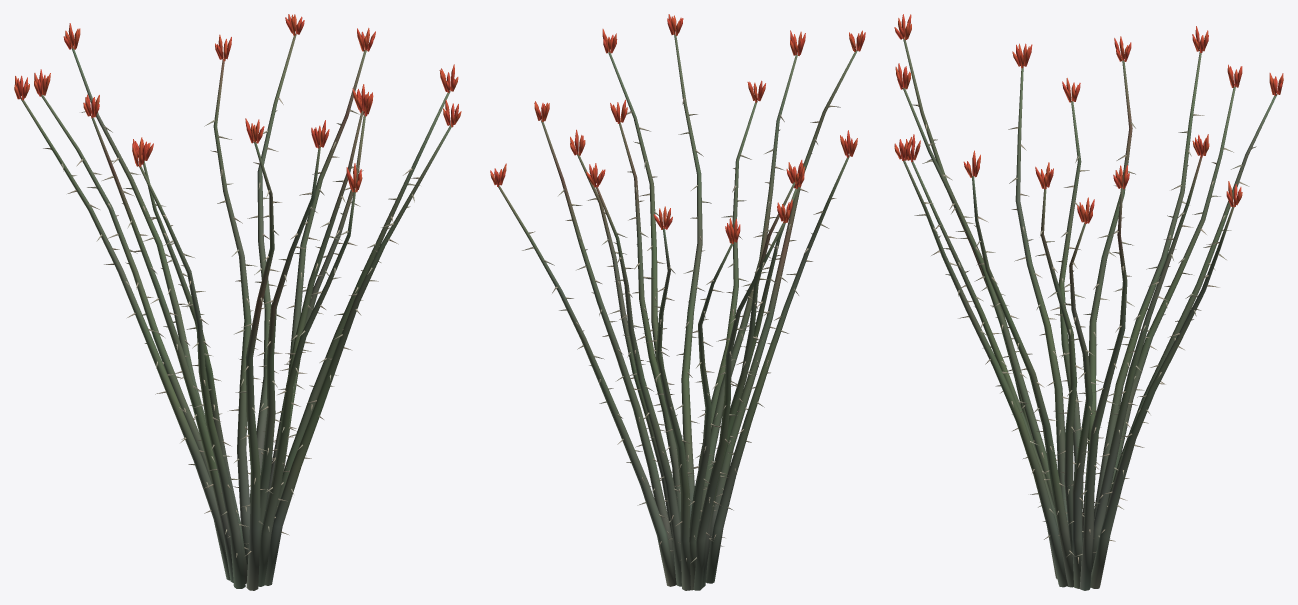
Rendered from ocotillo_hybrid.glb.
3 views of the same model, side by side, from view 1: azimuth 30°, elevation 25°; view 2: azimuth 150°, elevation 25°; view 3: azimuth 270°, elevation 25° (orthographic). The views are drawn at different scales.
Visible parts, largest first — view 1: OcotilloSeparateAscendingCaneStems, OcotilloTipFlowers, OcotilloStemThorns; view 2: OcotilloSeparateAscendingCaneStems, OcotilloTipFlowers, OcotilloStemThorns; view 3: OcotilloSeparateAscendingCaneStems, OcotilloTipFlowers, OcotilloStemThorns.
Part boxes in pixels (x1,y1,x2,y2): OcotilloSeparateAscendingCaneStems: (21,34,451,590); OcotilloTipFlowers: (14,14,461,192); OcotilloStemThorns: (43,97,420,557); OcotilloSeparateAscendingCaneStems: (498,34,857,590); OcotilloTipFlowers: (490,14,865,243); OcotilloStemThorns: (522,98,840,562); OcotilloSeparateAscendingCaneStems: (903,38,1277,590); OcotilloTipFlowers: (894,14,1283,223); OcotilloStemThorns: (912,104,1256,563).
Bounding box in the file's own units: 2.6 × 4.25 × 2.86.
